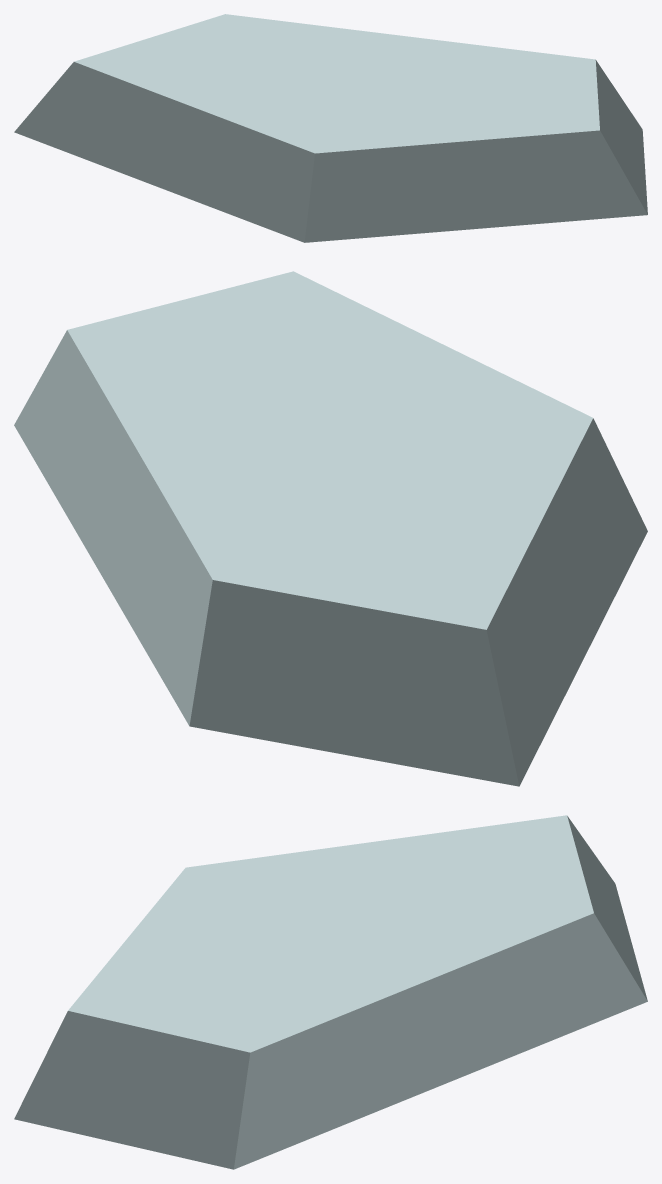
The model's file is stone_smallFlat2.glb.
3 views of the same model, one above another, from view 1: azimuth 30°, elevation 25°; view 2: azimuth 150°, elevation 25°; view 3: azimuth 270°, elevation 25° (orthographic). The views are drawn at different scales.
Parts seen in each view (by area): view 1: stone_smallFlat2; view 2: stone_smallFlat2; view 3: stone_smallFlat2.
Part boxes in pixels (left/top/right/bottom): stone_smallFlat2: left=14, top=14, right=647, bottom=242; stone_smallFlat2: left=14, top=271, right=647, bottom=786; stone_smallFlat2: left=14, top=815, right=647, bottom=1169.
Bounding box in the file's own units: 4.3 × 0.6494 × 4.02.
